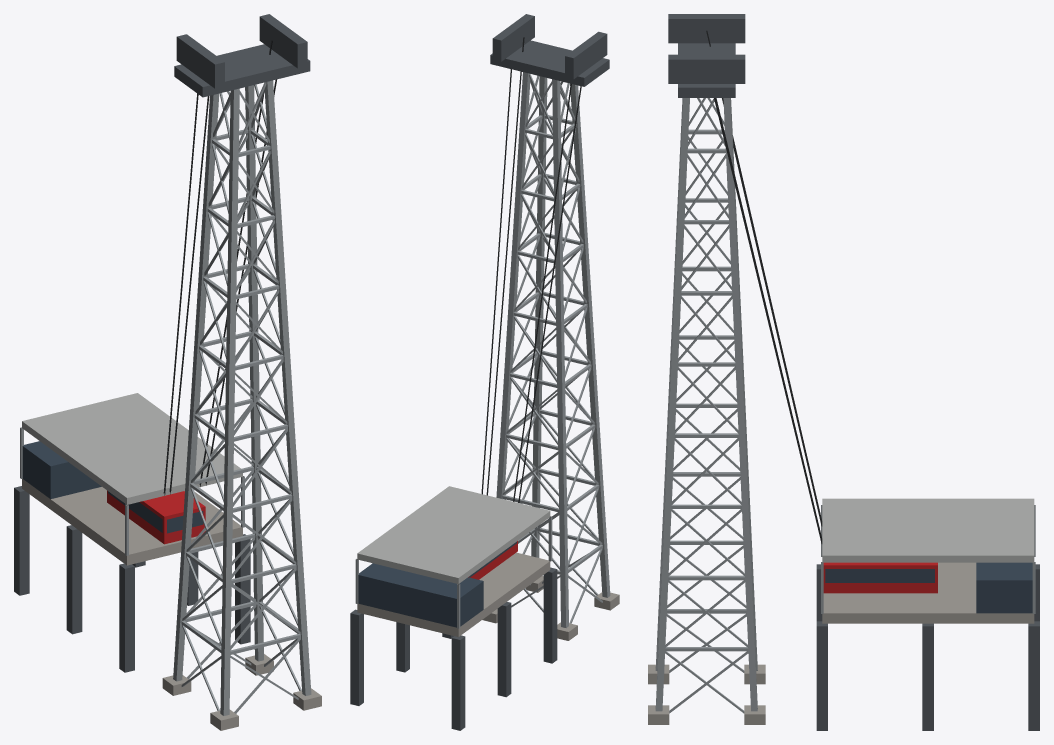
Rendered from roosevelt_island_tramway.glb.
3 views of the same model, side by side, from view 1: azimuth 30°, elevation 25°; view 2: azimuth 150°, elevation 25°; view 3: azimuth 270°, elevation 25° (orthographic). The views are drawn at different scales.
Visible parts, largest first — view 1: roosevelt_island_tramway; view 2: roosevelt_island_tramway; view 3: roosevelt_island_tramway.
Part boxes in pixels (x1,y1,x2,y2): roosevelt_island_tramway: (14,14,321,730); roosevelt_island_tramway: (350,14,619,730); roosevelt_island_tramway: (648,14,1039,730).
Bounding box in the file's own units: 15.2 × 76.08 × 40.7.
1 material, 1 textured.
